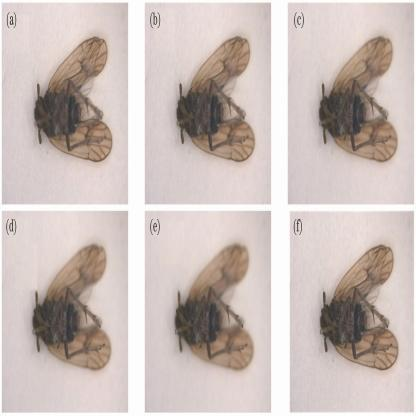brown-planthopper: (31, 26, 114, 166), (175, 234, 254, 370), (320, 241, 400, 375), (33, 241, 115, 371), (176, 29, 254, 164), (320, 29, 398, 159)
